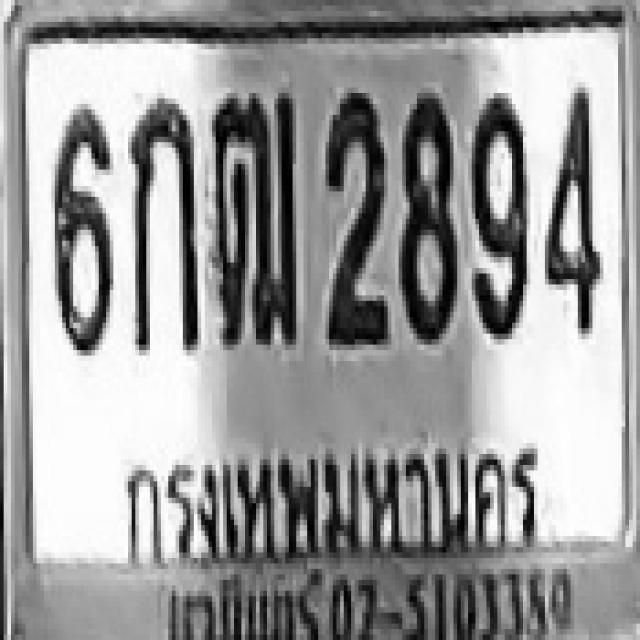10GorGai: (128, 96, 197, 353)
2: (324, 90, 386, 342)
27ThorPhuThao: (208, 88, 296, 344)
4: (543, 82, 602, 334)
6: (52, 104, 114, 355)
8: (398, 88, 454, 339)
9: (470, 90, 528, 337)
Bangkok: (116, 436, 549, 566)
